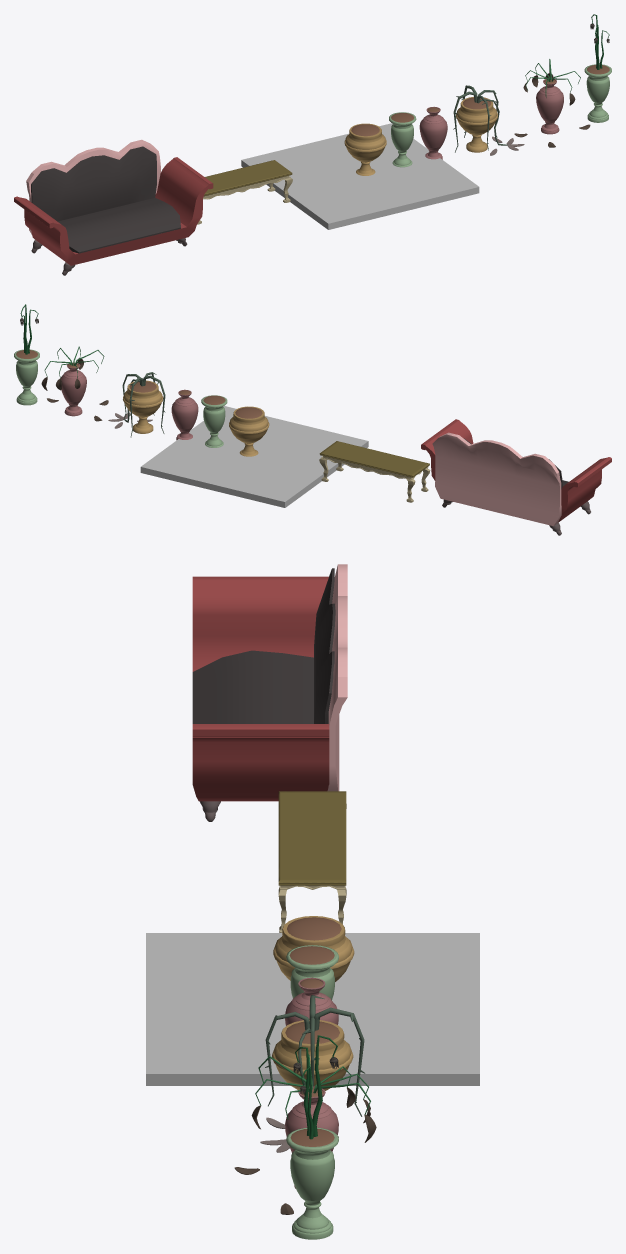
File: LivingRoom_UV.fbx
The picture shows the model from 3 angles, top to bottom: view 1: azimuth 30°, elevation 25°; view 2: azimuth 150°, elevation 25°; view 3: azimuth 270°, elevation 25°; orthographic projection. The views are drawn at different scales.
Parts seen in each view (by area): view 1: Cushion1, Couch_Modeled:Couch_Stuffing, Couch_Modeled:Couch_BodyFix2_BottomSides, Low_CoffeeTable_Modeled:Low_Table, Couch_Modeled:Couch_BodyFix2_Back, PlantPots_DeadPlants_Modeled:PlantPot1, PlantPots_DeadPlants_Modeled:EmptyPot3, PlantPots_DeadPlants_Modeled:PlantPot2, PlantPots_DeadPlants_Modeled:EmptyPot1, PlantPots_DeadPlants_Modeled:PlantPot3, PlantPots_DeadPlants_Modeled:EmptyPot2; view 2: Cushion1, Couch_Modeled:Couch_BodyFix2_Back, Low_CoffeeTable_Modeled:Low_Table, Couch_Modeled:Couch_BodyFix2_BottomSides, PlantPots_DeadPlants_Modeled:PlantPot1, PlantPots_DeadPlants_Modeled:EmptyPot3, PlantPots_DeadPlants_Modeled:PlantPot2, PlantPots_DeadPlants_Modeled:EmptyPot1, PlantPots_DeadPlants_Modeled:PlantPot3, PlantPots_DeadPlants_Modeled:EmptyPot2; view 3: Cushion1, Couch_Modeled:Couch_BodyFix2_BottomSides, Couch_Modeled:Couch_Stuffing, Low_CoffeeTable_Modeled:Low_Table, PlantPots_DeadPlants_Modeled:PlantPot3, Couch_Modeled:Couch_BodyFix2_Back, PlantPots_DeadPlants_Modeled:PlantPot1, PlantPots_DeadPlants_Modeled:EmptyPot3, PlantPots_DeadPlants_Modeled:EmptyPot2, PlantPots_DeadPlants_Modeled:PlantPot2, PlantPots_DeadPlants_Modeled:EmptyPot1, PlantPots_DeadPlants_Modeled:Dirt6.
Part boxes in pixels (bbox=[...]): Cushion1: bbox=[241, 123, 479, 229]; Couch_Modeled:Couch_Stuffing: bbox=[31, 146, 180, 253]; Couch_Modeled:Couch_BodyFix2_BottomSides: bbox=[14, 157, 213, 265]; Low_CoffeeTable_Modeled:Low_Table: bbox=[197, 160, 292, 224]; Couch_Modeled:Couch_BodyFix2_Back: bbox=[26, 139, 160, 234]; PlantPots_DeadPlants_Modeled:PlantPot1: bbox=[456, 96, 497, 152]; PlantPots_DeadPlants_Modeled:EmptyPot3: bbox=[344, 123, 386, 175]; PlantPots_DeadPlants_Modeled:PlantPot2: bbox=[536, 78, 563, 134]; PlantPots_DeadPlants_Modeled:EmptyPot1: bbox=[419, 106, 447, 159]; PlantPots_DeadPlants_Modeled:PlantPot3: bbox=[584, 64, 611, 122]; PlantPots_DeadPlants_Modeled:EmptyPot2: bbox=[389, 112, 416, 167]; Cushion1: bbox=[140, 406, 368, 507]; Couch_Modeled:Couch_BodyFix2_Back: bbox=[432, 432, 561, 526]; Low_CoffeeTable_Modeled:Low_Table: bbox=[319, 441, 430, 502]; Couch_Modeled:Couch_BodyFix2_BottomSides: bbox=[421, 419, 611, 522]; PlantPots_DeadPlants_Modeled:PlantPot1: bbox=[123, 380, 163, 433]; PlantPots_DeadPlants_Modeled:EmptyPot3: bbox=[229, 406, 269, 456]; PlantPots_DeadPlants_Modeled:PlantPot2: bbox=[61, 362, 86, 416]; PlantPots_DeadPlants_Modeled:EmptyPot1: bbox=[171, 389, 198, 440]; PlantPots_DeadPlants_Modeled:PlantPot3: bbox=[14, 349, 39, 405]; PlantPots_DeadPlants_Modeled:EmptyPot2: bbox=[201, 395, 227, 447]; Cushion1: bbox=[146, 933, 479, 1085]; Couch_Modeled:Couch_BodyFix2_BottomSides: bbox=[192, 576, 329, 801]; Couch_Modeled:Couch_Stuffing: bbox=[192, 568, 335, 723]; Low_CoffeeTable_Modeled:Low_Table: bbox=[278, 791, 346, 932]; PlantPots_DeadPlants_Modeled:PlantPot3: bbox=[286, 1127, 338, 1239]; Couch_Modeled:Couch_BodyFix2_Back: bbox=[327, 564, 347, 791]; PlantPots_DeadPlants_Modeled:PlantPot1: bbox=[272, 1020, 353, 1090]; PlantPots_DeadPlants_Modeled:EmptyPot3: bbox=[273, 916, 354, 981]; PlantPots_DeadPlants_Modeled:EmptyPot2: bbox=[286, 945, 338, 1000]; PlantPots_DeadPlants_Modeled:PlantPot2: bbox=[285, 1086, 338, 1188]; PlantPots_DeadPlants_Modeled:EmptyPot1: bbox=[285, 977, 338, 1025]; PlantPots_DeadPlants_Modeled:Dirt6: bbox=[287, 917, 341, 940].
Size of the model in its own units: 58.78 by 10.02 by 15.
